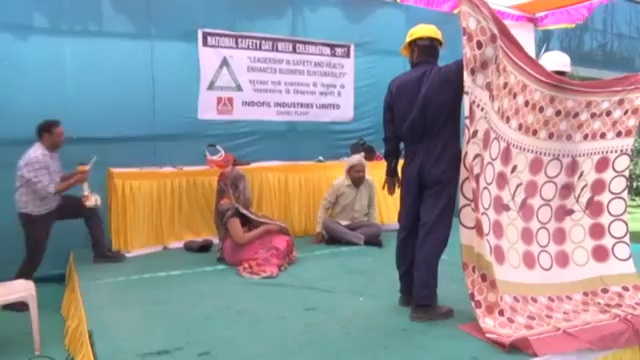helmet: (400, 22, 445, 55), (539, 50, 572, 75)
helmet_off: (35, 119, 66, 152), (218, 167, 246, 195), (345, 153, 367, 187)
helmet_on: (399, 21, 446, 71)
person: (380, 20, 463, 325), (14, 122, 114, 284), (209, 167, 293, 279), (317, 153, 381, 250)
